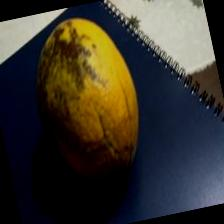Orange Rotten: (16, 2, 168, 211)
